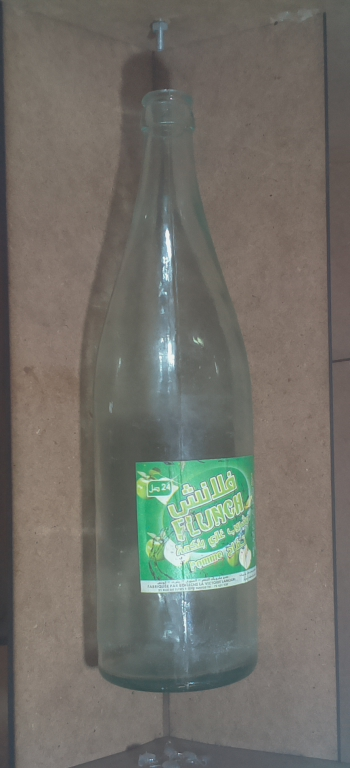Glass: (86, 79, 272, 697)
